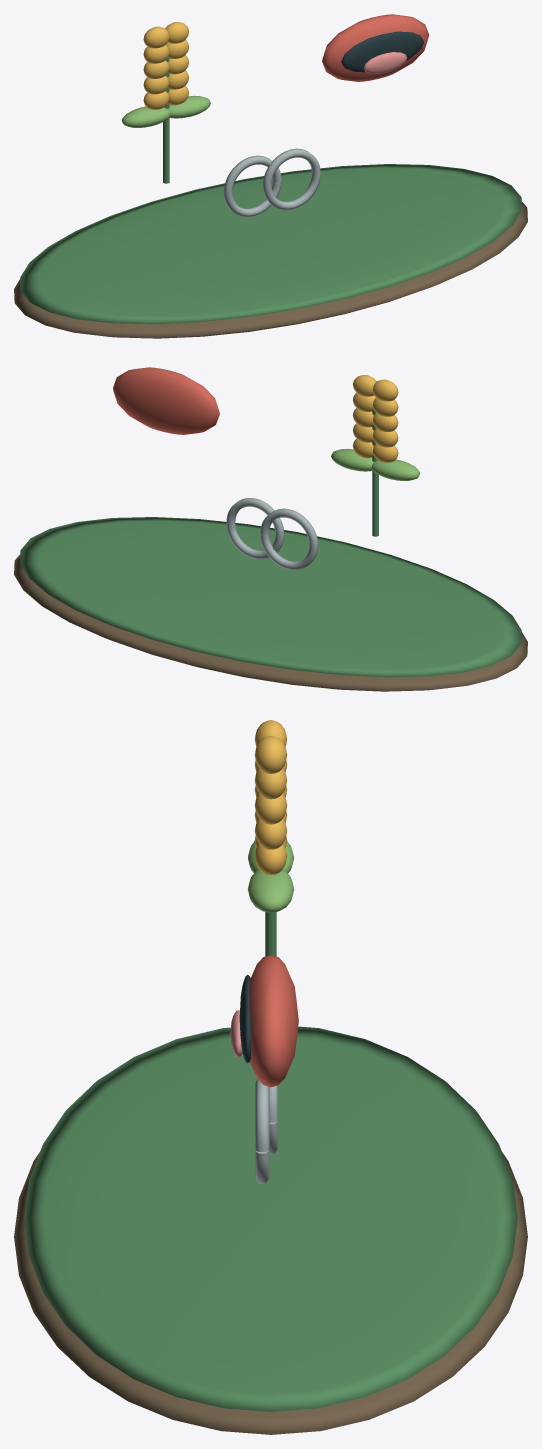
File: complete-first-grain-and-mouth.glb
3 views of the same model, one above another, from view 1: azimuth 30°, elevation 25°; view 2: azimuth 150°, elevation 25°; view 3: azimuth 270°, elevation 25° (orthographic). The views are drawn at different scales.
Visible parts, largest first — view 1: complete-first-grain-and-mouth_surface_01, complete-first-grain-and-mouth_surface_00, complete-first-grain-and-mouth_surface_03, complete-first-grain-and-mouth_surface_04, complete-first-grain-and-mouth_surface_07, complete-first-grain-and-mouth_surface_05, complete-first-grain-and-mouth_surface_02, complete-first-grain-and-mouth_surface_06; view 2: complete-first-grain-and-mouth_surface_01, complete-first-grain-and-mouth_surface_00, complete-first-grain-and-mouth_surface_04, complete-first-grain-and-mouth_surface_03, complete-first-grain-and-mouth_surface_07, complete-first-grain-and-mouth_surface_02; view 3: complete-first-grain-and-mouth_surface_01, complete-first-grain-and-mouth_surface_00, complete-first-grain-and-mouth_surface_04, complete-first-grain-and-mouth_surface_03, complete-first-grain-and-mouth_surface_07, complete-first-grain-and-mouth_surface_02, complete-first-grain-and-mouth_surface_05.
Boxes of the visible parts, left/top/right/bottom form: complete-first-grain-and-mouth_surface_01: left=20, top=57, right=521, bottom=324; complete-first-grain-and-mouth_surface_00: left=14, top=201, right=527, bottom=338; complete-first-grain-and-mouth_surface_03: left=143, top=22, right=189, bottom=109; complete-first-grain-and-mouth_surface_04: left=322, top=14, right=428, bottom=81; complete-first-grain-and-mouth_surface_07: left=223, top=148, right=320, bottom=217; complete-first-grain-and-mouth_surface_05: left=341, top=31, right=423, bottom=72; complete-first-grain-and-mouth_surface_02: left=121, top=95, right=210, bottom=127; complete-first-grain-and-mouth_surface_06: left=363, top=52, right=407, bottom=73; complete-first-grain-and-mouth_surface_01: left=20, top=410, right=521, bottom=677; complete-first-grain-and-mouth_surface_00: left=14, top=554, right=527, bottom=691; complete-first-grain-and-mouth_surface_04: left=113, top=367, right=219, bottom=434; complete-first-grain-and-mouth_surface_03: left=352, top=375, right=398, bottom=462; complete-first-grain-and-mouth_surface_07: left=226, top=498, right=318, bottom=570; complete-first-grain-and-mouth_surface_02: left=331, top=448, right=420, bottom=480; complete-first-grain-and-mouth_surface_01: left=24, top=912, right=517, bottom=1411; complete-first-grain-and-mouth_surface_00: left=14, top=1152, right=527, bottom=1434; complete-first-grain-and-mouth_surface_04: left=249, top=955, right=298, bottom=1087; complete-first-grain-and-mouth_surface_03: left=254, top=720, right=287, bottom=874; complete-first-grain-and-mouth_surface_07: left=255, top=1079, right=278, bottom=1183; complete-first-grain-and-mouth_surface_02: left=247, top=841, right=294, bottom=912; complete-first-grain-and-mouth_surface_05: left=239, top=974, right=251, bottom=1063.
Bounding box in the file's own units: 4.56 × 2.4 × 2.5.
